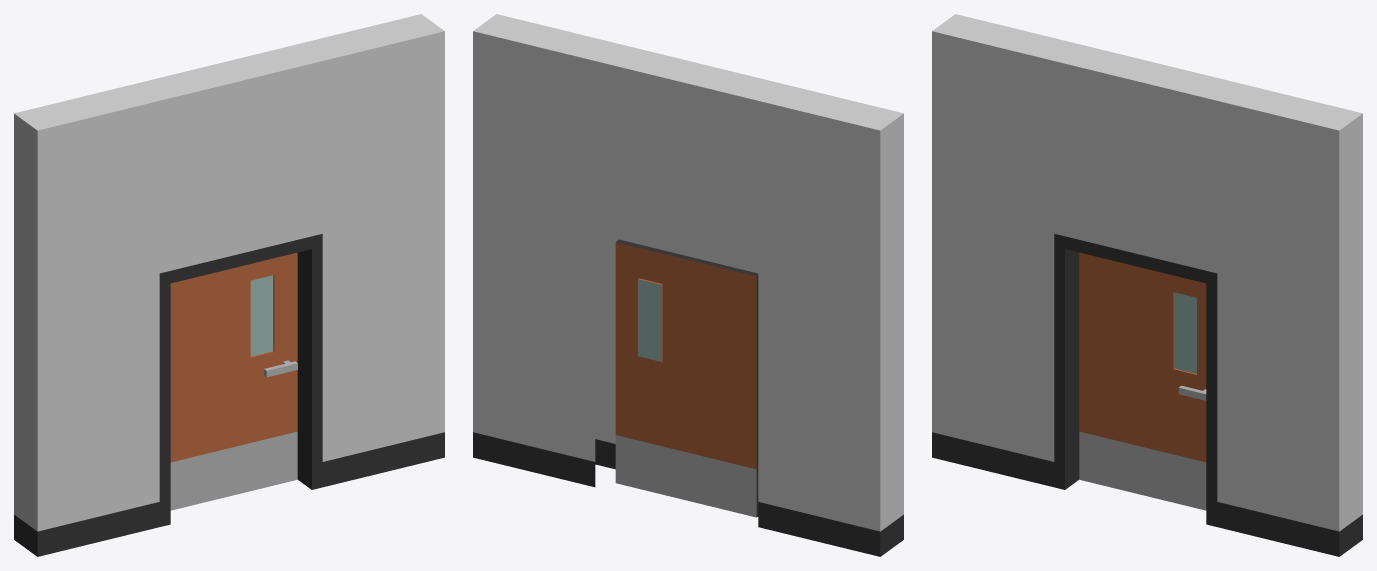
File: DoorWall.fbx
3 renders of one model, left to right at view 1: azimuth 30°, elevation 25°; view 2: azimuth 150°, elevation 25°; view 3: azimuth 330°, elevation 25°, orthographic.
Parts seen in each view (by area): view 1: DoorWall.001; view 2: DoorWall.001; view 3: DoorWall.001.
Part boxes in pixels (x1,y1,x2,y2): DoorWall.001: (14, 14, 444, 556); DoorWall.001: (473, 14, 903, 556); DoorWall.001: (932, 14, 1362, 556).
Size of the model in its own units: 500 by 500 by 50.
